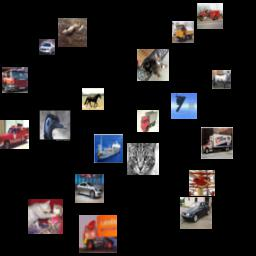airplane: (171, 93, 197, 119), (189, 170, 215, 196)
automobile: (180, 197, 212, 229), (75, 174, 104, 203), (39, 39, 55, 55)
bird: (39, 109, 71, 141), (58, 18, 87, 47)
cat: (28, 199, 63, 234), (137, 49, 169, 81), (127, 143, 159, 175)
ship: (94, 134, 123, 163)
truck: (79, 215, 117, 253), (201, 127, 233, 159), (0, 120, 29, 149), (2, 67, 28, 93), (197, 3, 223, 29), (137, 110, 159, 132), (172, 21, 194, 43)
